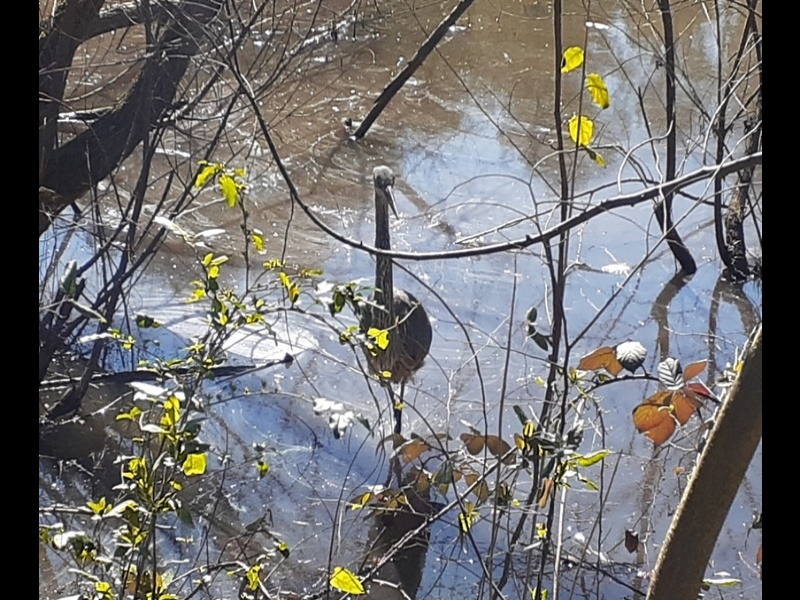heron: (345, 165, 439, 439)
